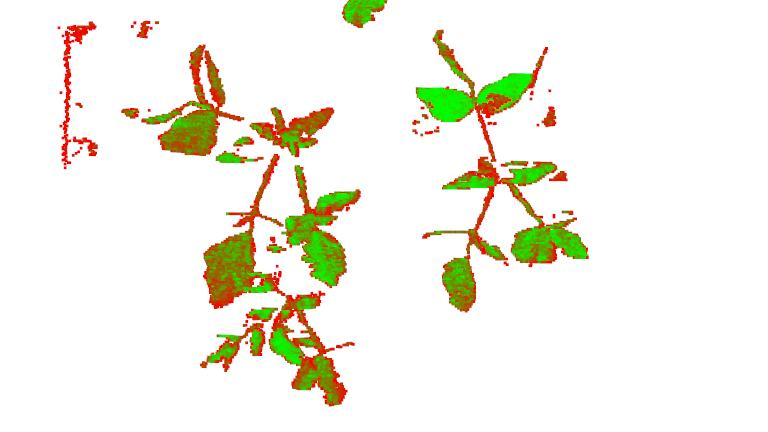mungbean: (122, 40, 366, 285), (417, 27, 586, 317), (199, 288, 355, 415)
